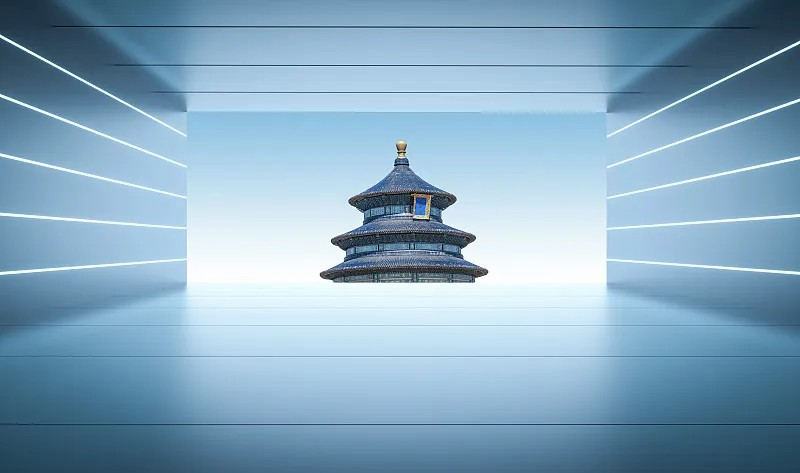Heaven: (314, 140, 490, 285)
